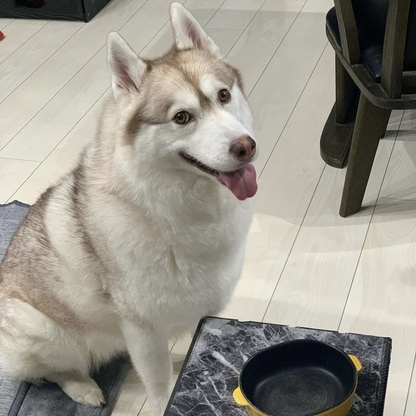husky: (1, 1, 264, 416)
